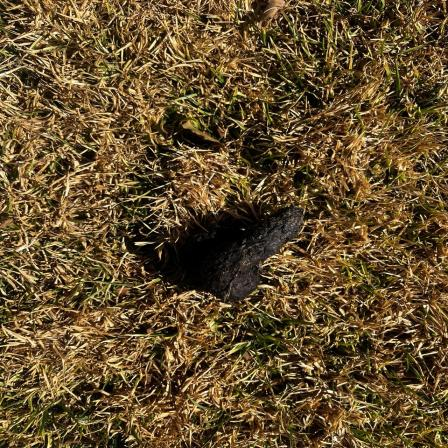dog-poop: (182, 198, 326, 306)
